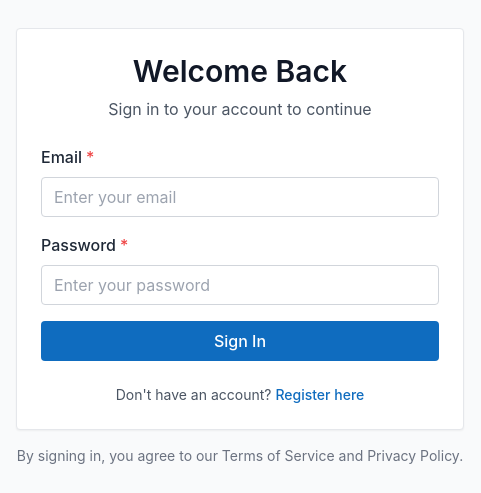
Test: LoginPage › Error Handling › should handle validation errors from API
Step 1. Type "test@example.com" into the field labelled "Email*" → (240, 197), box top-left (41, 177), bottom-right (439, 217)
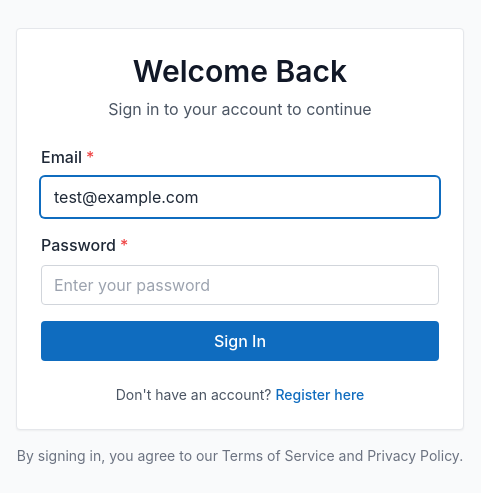
Step 2. Type "password123" into the password field labelled "Password*" → (240, 285), box top-left (41, 265), bottom-right (439, 305)
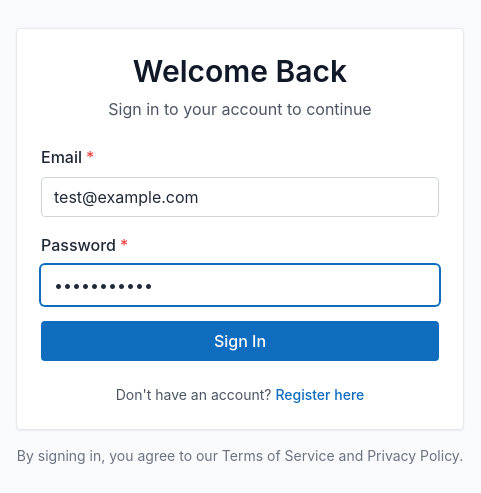
Step 3. Click the button "Sign In" → (240, 341), box top-left (41, 321), bottom-right (439, 361)
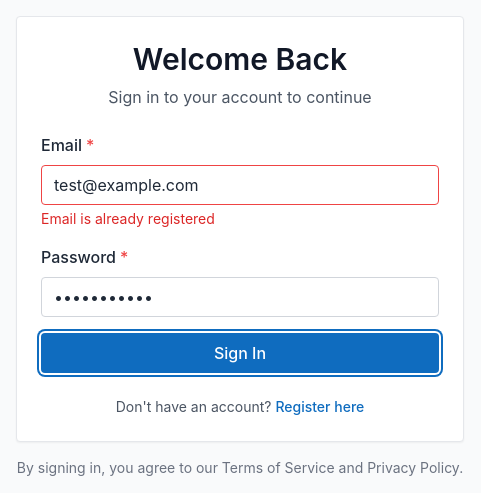
Now the text "Email is already registered" is shown, box top-left (41, 210), bottom-right (215, 227)
